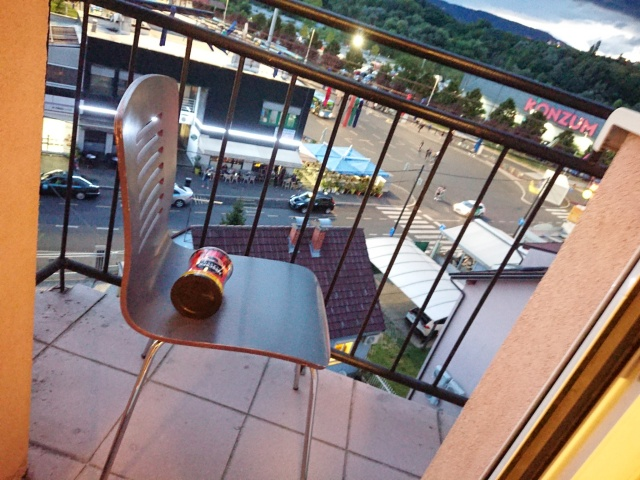Nescafe Classic 225g: (168, 243, 236, 322)
